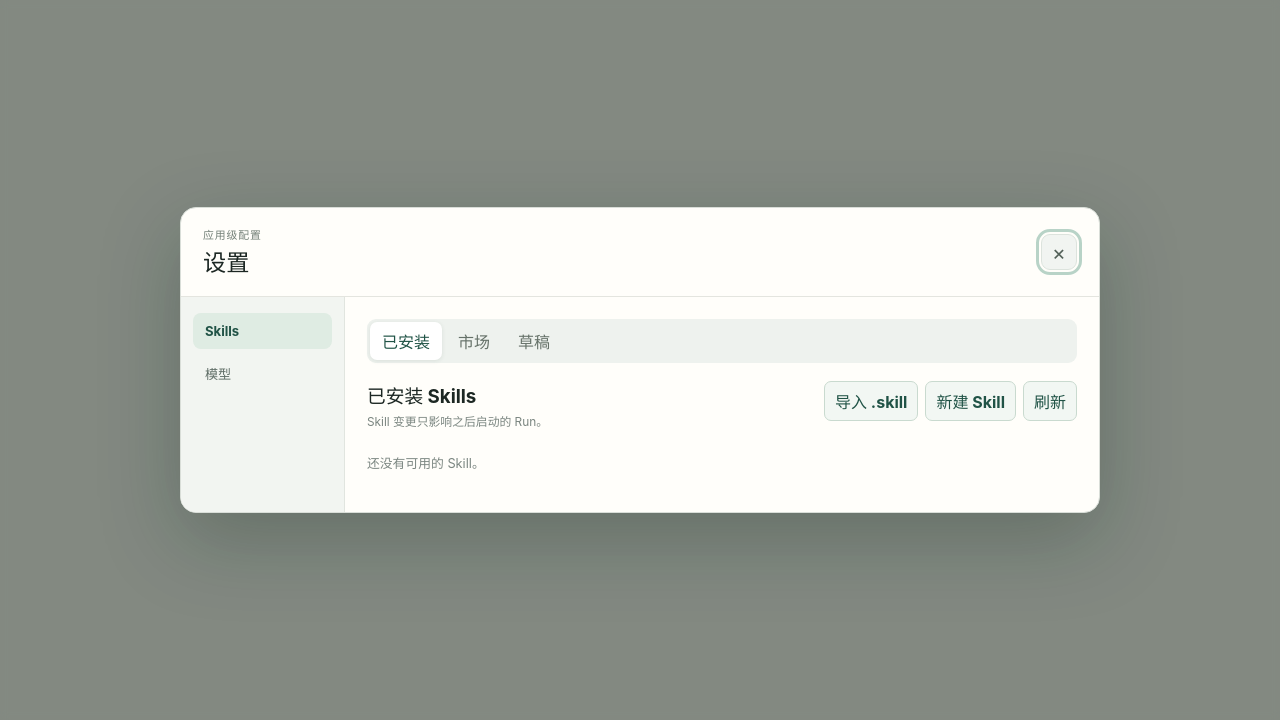
Test: SettingsDialog › 确认 Agent 草稿后立即在已安装列表展示完整 Skill 信息
The image size is (1280, 720).
Click the tab "草稿" at [534, 341], box [506,322,562,360]
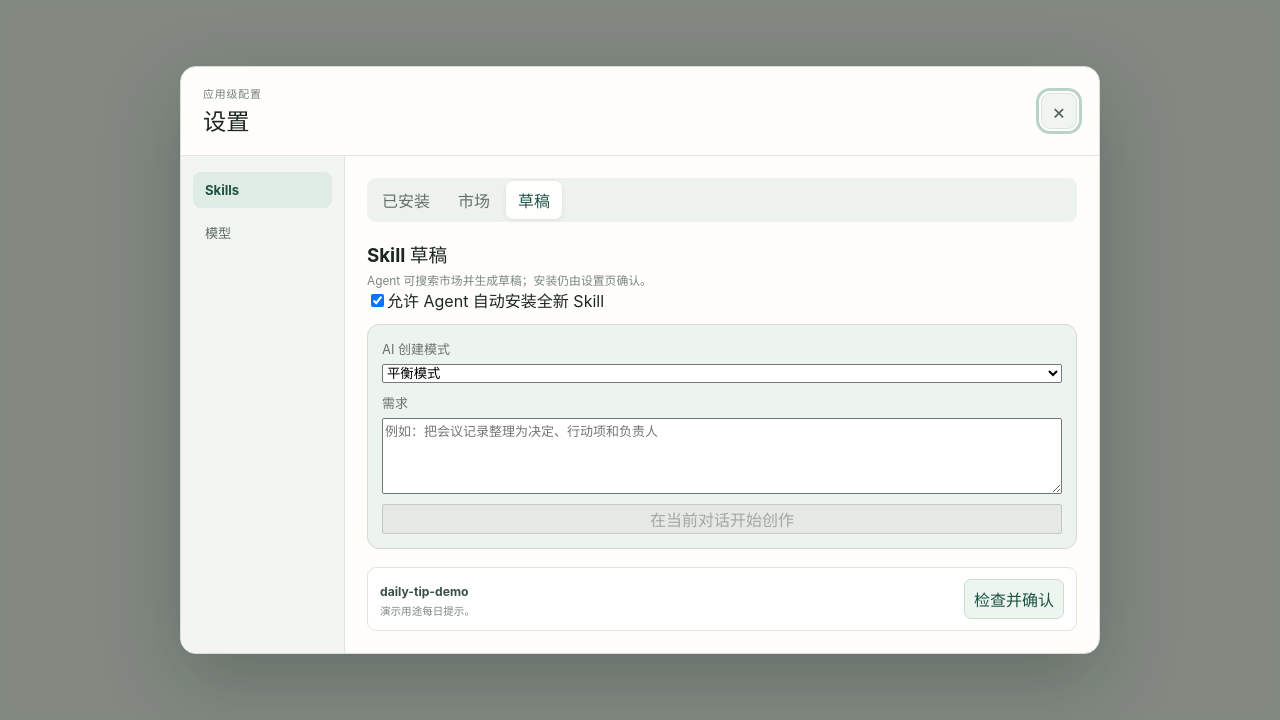
Click the button "检查并确认" at [1014, 599], box [964,579,1064,619]
(page scrolled)
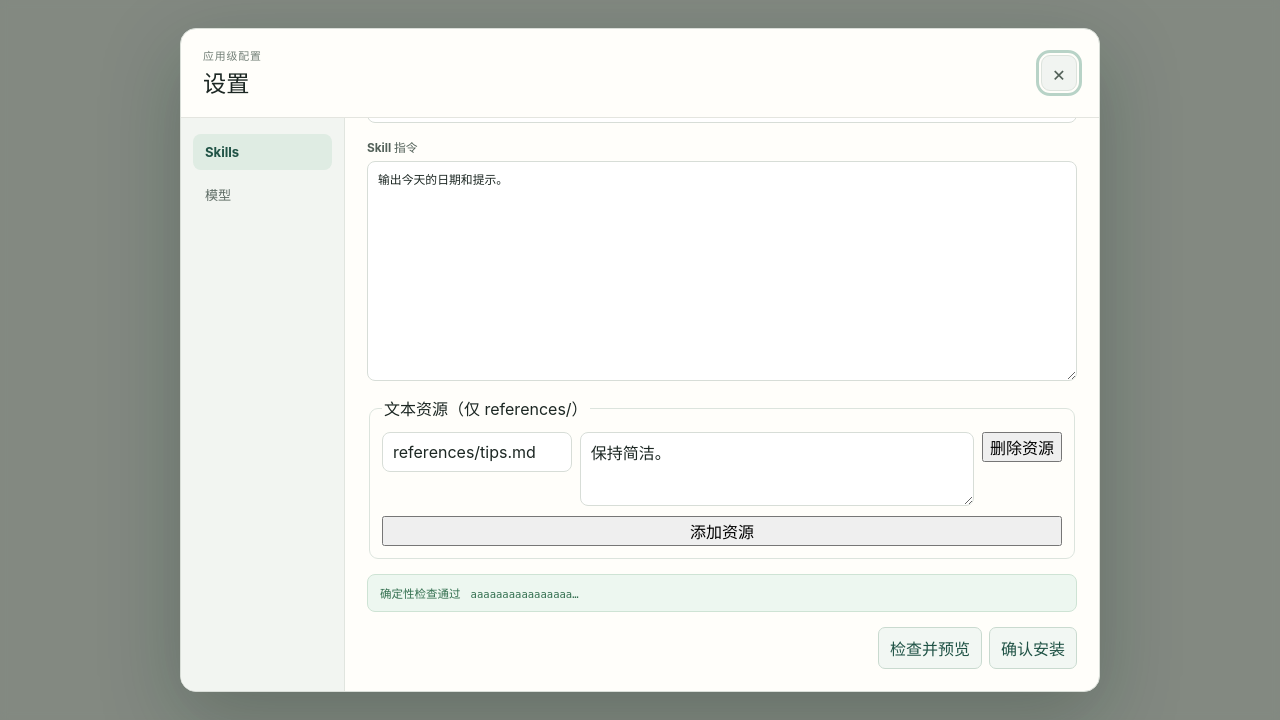
Click the button "确认安装" at [1033, 648], box [989,627,1077,669]
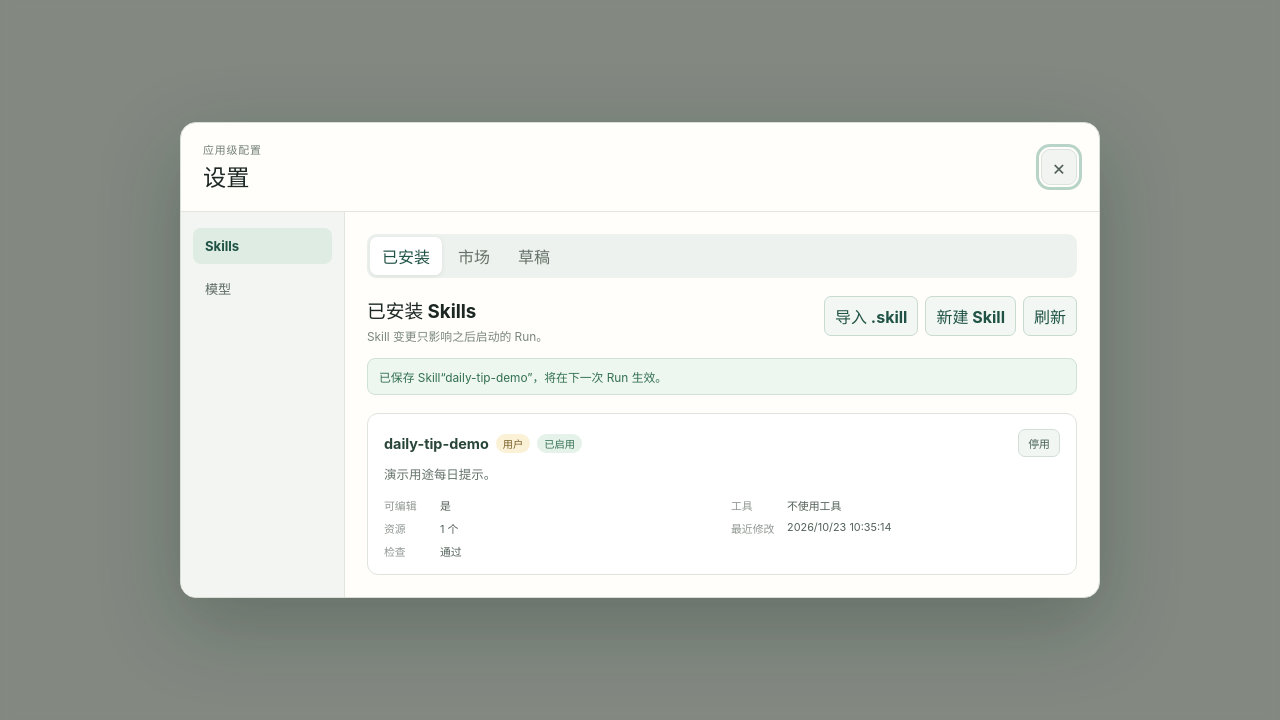
Expected: the text "已保存 Skill“daily-tip-demo”，将在下一次 Run 生效。" is shown, [367,358,1077,395]
Expected: the button "daily-tip-demo" is shown, [384,435,489,452]
Expected: the text "演示用途每日提示。" is shown, [384,467,496,482]
Click the tab "草稿" at [534, 256], box [506,237,562,275]
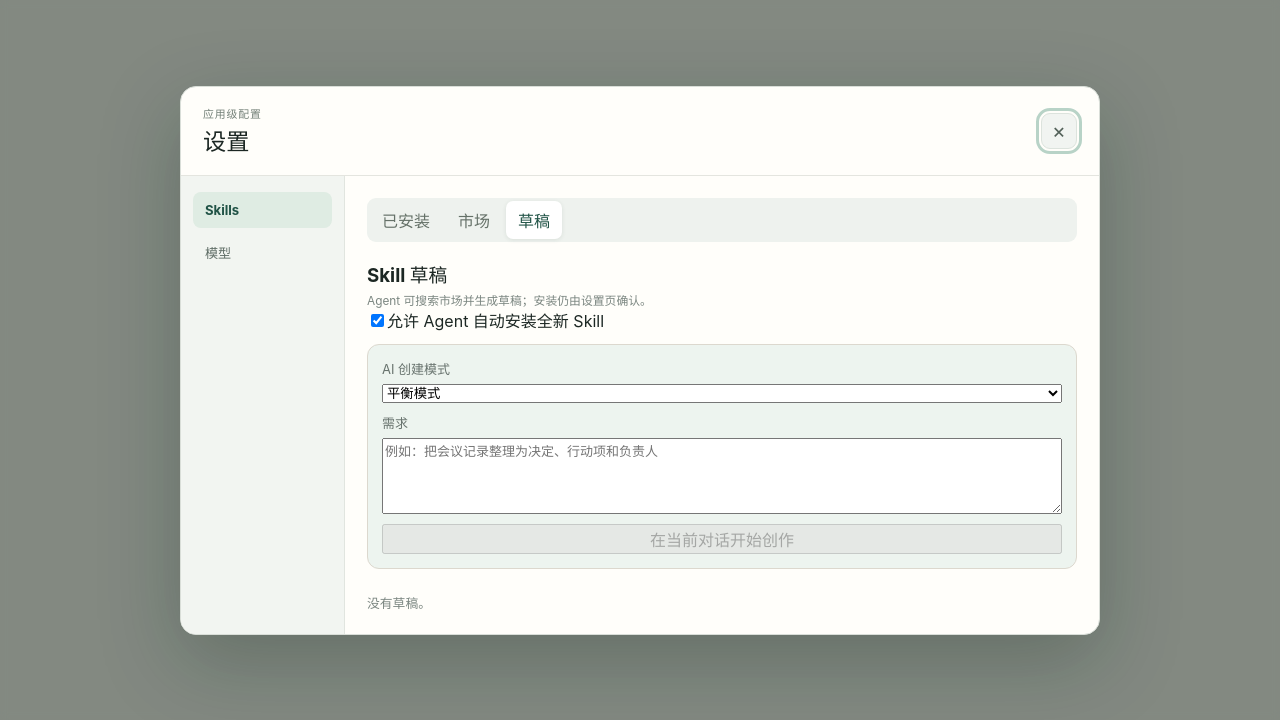
Expected: the button "检查并确认" is not shown
Expected: the text "没有草稿。" is shown, [367,596,431,610]
